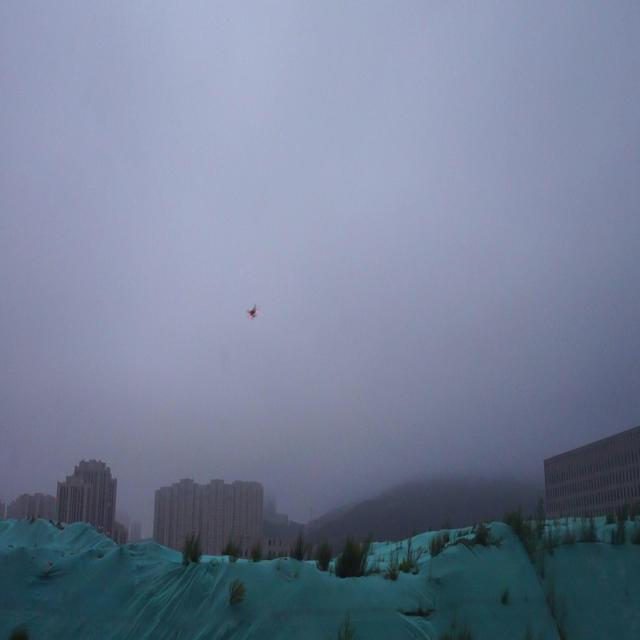drone: (246, 301, 260, 323)
